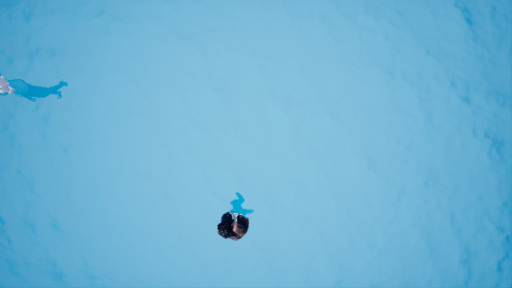person: (215, 187, 257, 246)
